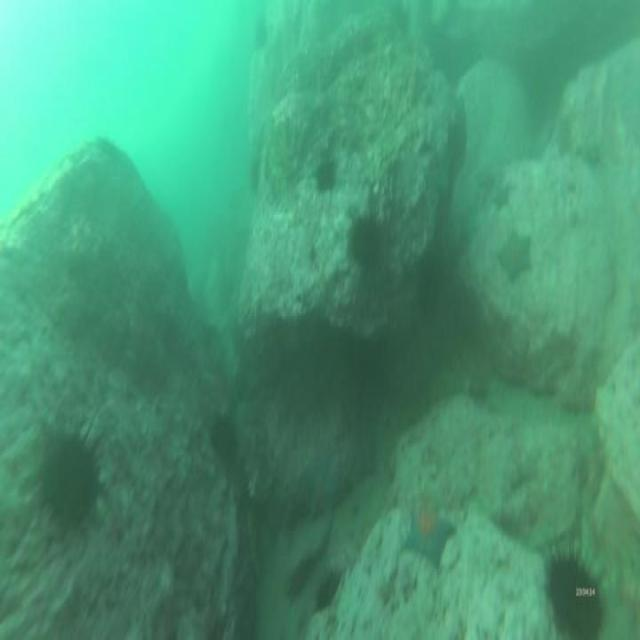echinus: (42, 434, 98, 530), (550, 556, 602, 640), (350, 218, 380, 267), (210, 412, 234, 457), (314, 568, 338, 608)
starfish: (404, 498, 455, 566), (301, 452, 337, 520), (498, 230, 532, 280), (313, 156, 339, 192)
